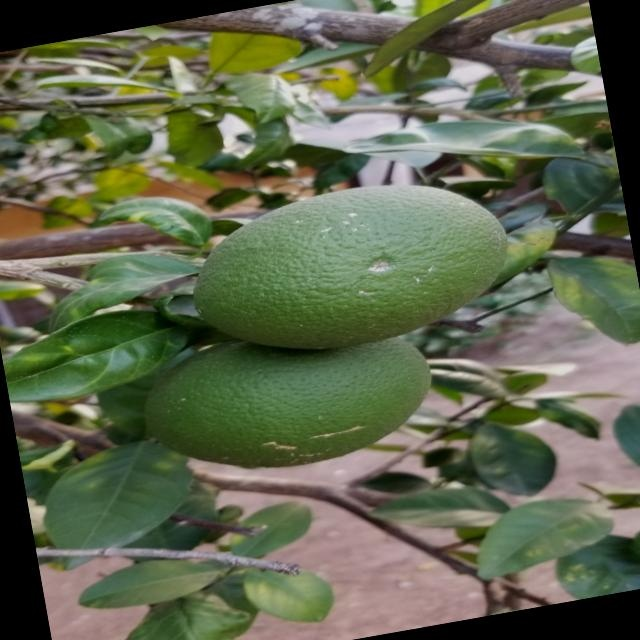agrume: (185, 158, 531, 370), (119, 315, 450, 493)
